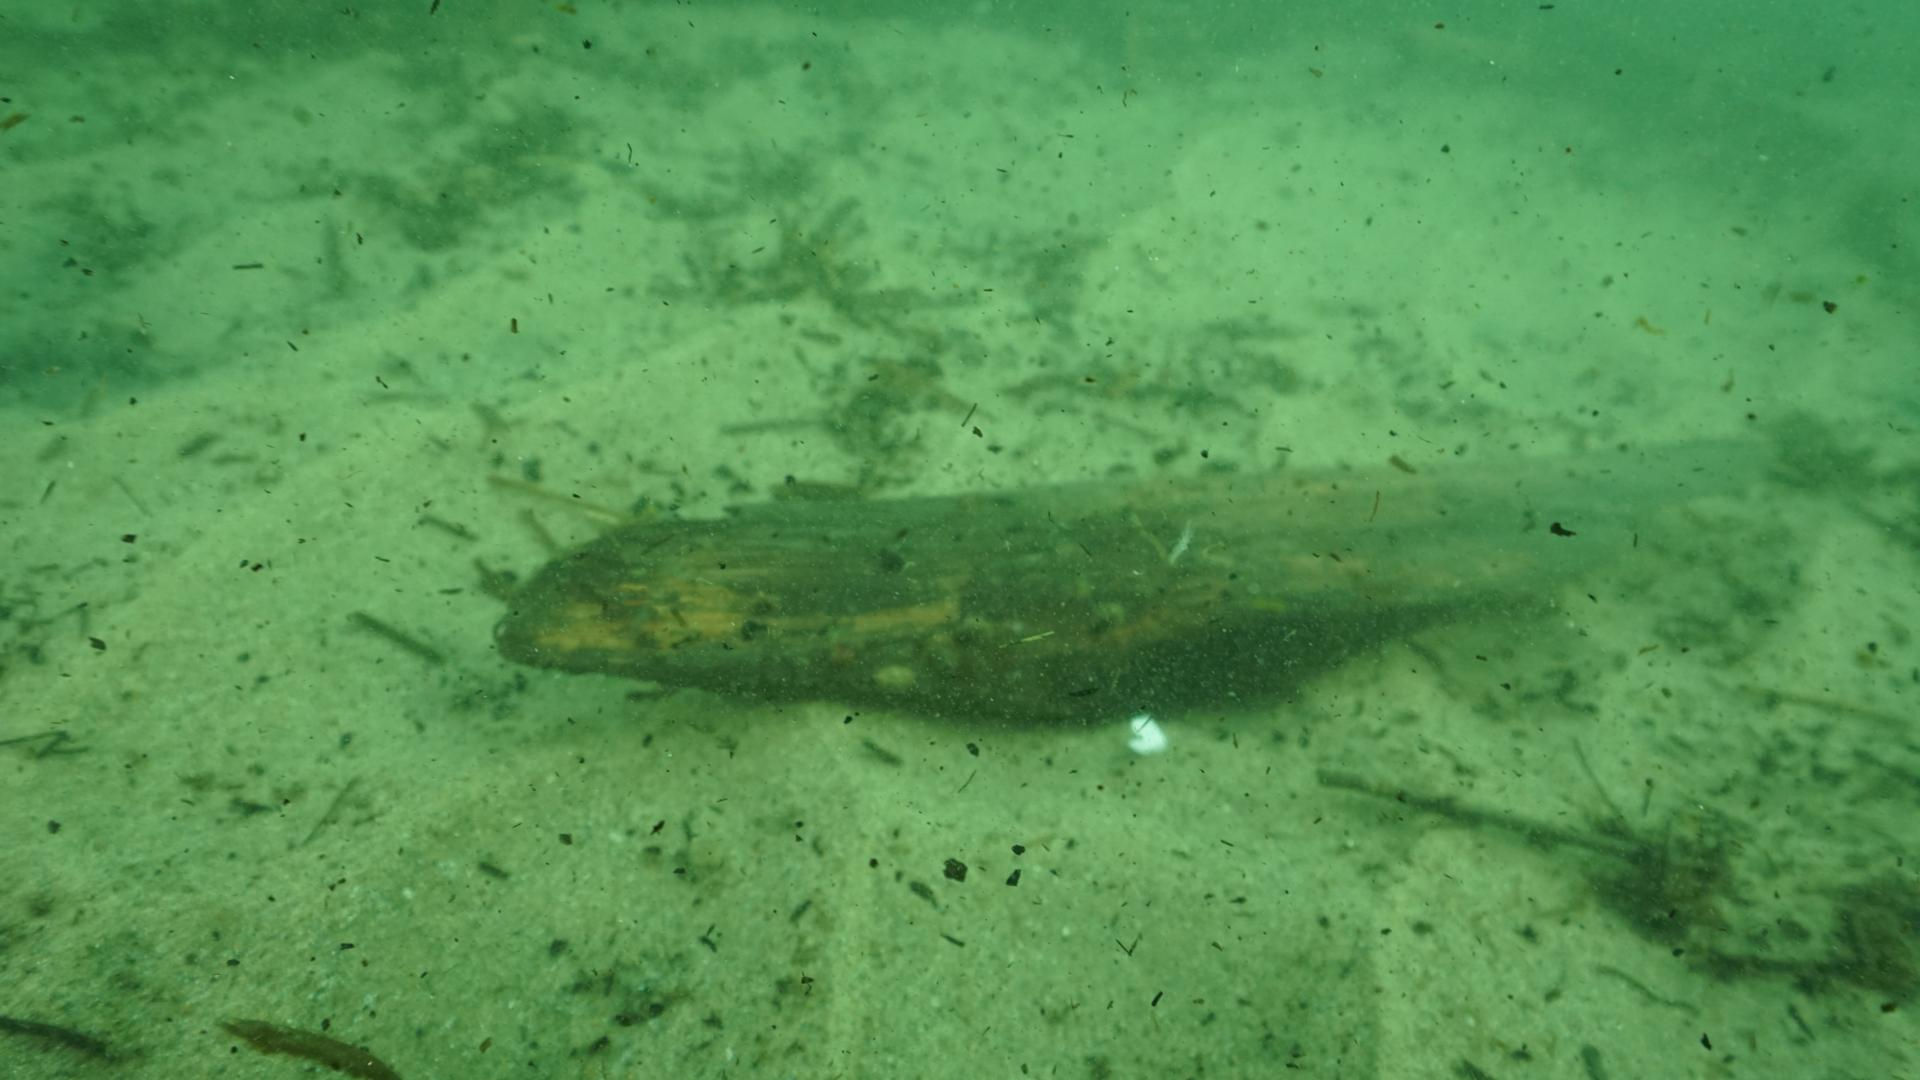wood: (489, 430, 1782, 723)
